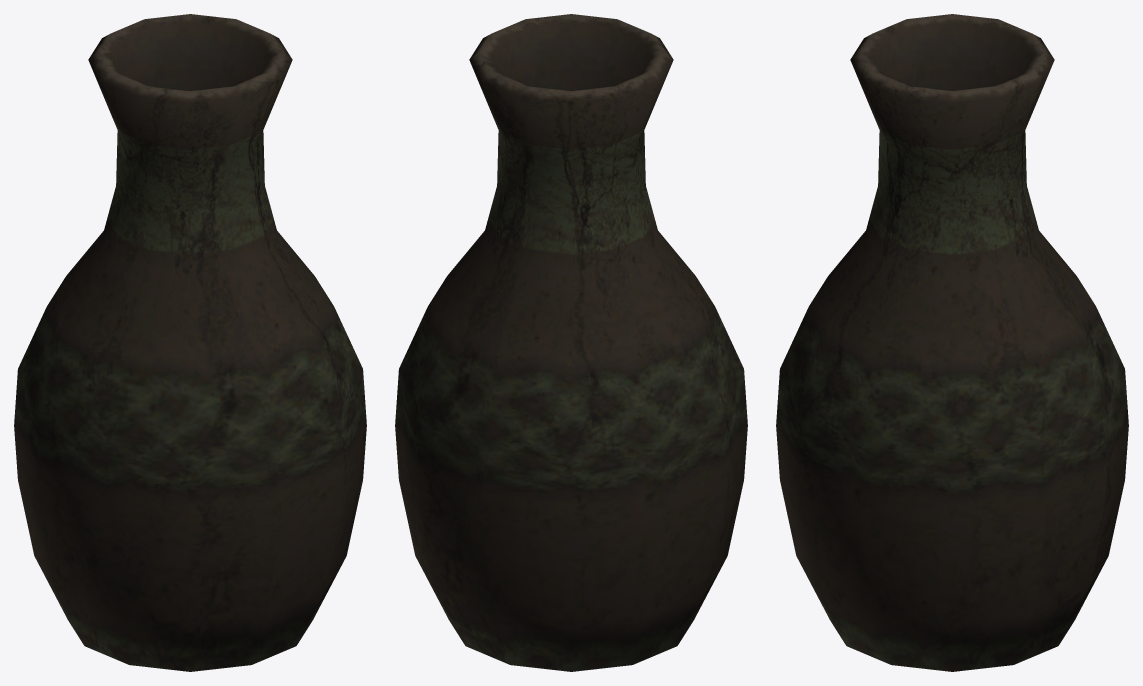
Rendered from vase01.dae.
The picture shows the model from 3 angles, left to right: view 1: azimuth 30°, elevation 25°; view 2: azimuth 150°, elevation 25°; view 3: azimuth 270°, elevation 25°; orthographic projection.
Visible parts, largest first — view 1: pCylinder1; view 2: pCylinder1; view 3: pCylinder1.
Boxes of the visible parts, x1,y1,x2,y2 form: pCylinder1: (14, 14, 366, 671); pCylinder1: (395, 14, 747, 671); pCylinder1: (776, 14, 1128, 671).
Bounding box in the file's own units: 0.3973 × 0.7049 × 0.3973.
